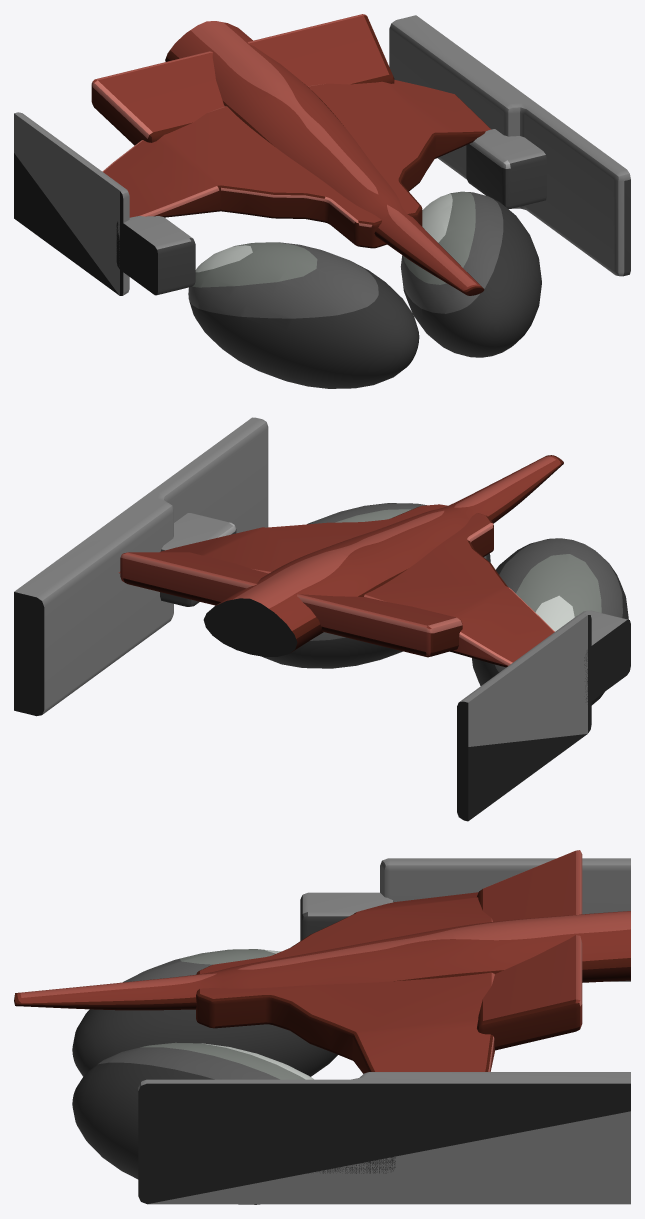
File: ixm_dock_bc.glb
3 renders of one model, top to bottom at view 1: azimuth 30°, elevation 25°; view 2: azimuth 150°, elevation 25°; view 3: azimuth 270°, elevation 25°, orthographic. The views are drawn at different scales.
Visible parts, largest first — view 1: ixm_dock_bc; view 2: ixm_dock_bc; view 3: ixm_dock_bc.
Boxes of the visible parts, bbox=[...] form: ixm_dock_bc: bbox=[14, 14, 630, 388]; ixm_dock_bc: bbox=[14, 417, 630, 821]; ixm_dock_bc: bbox=[14, 850, 630, 1204].
Bounding box in the file's own units: 24 × 11.56 × 27.8.
